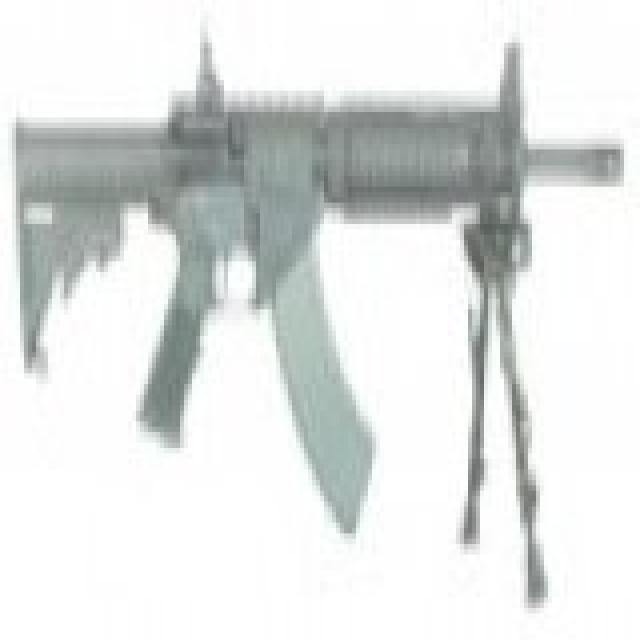Gun: (0, 33, 625, 622)
